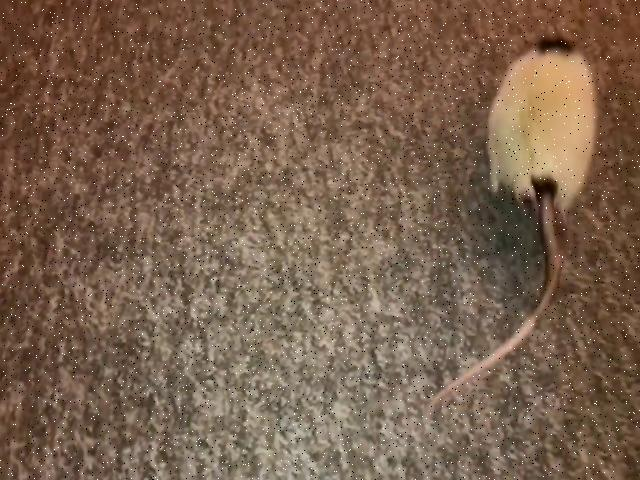Tikus: (484, 20, 604, 318)
